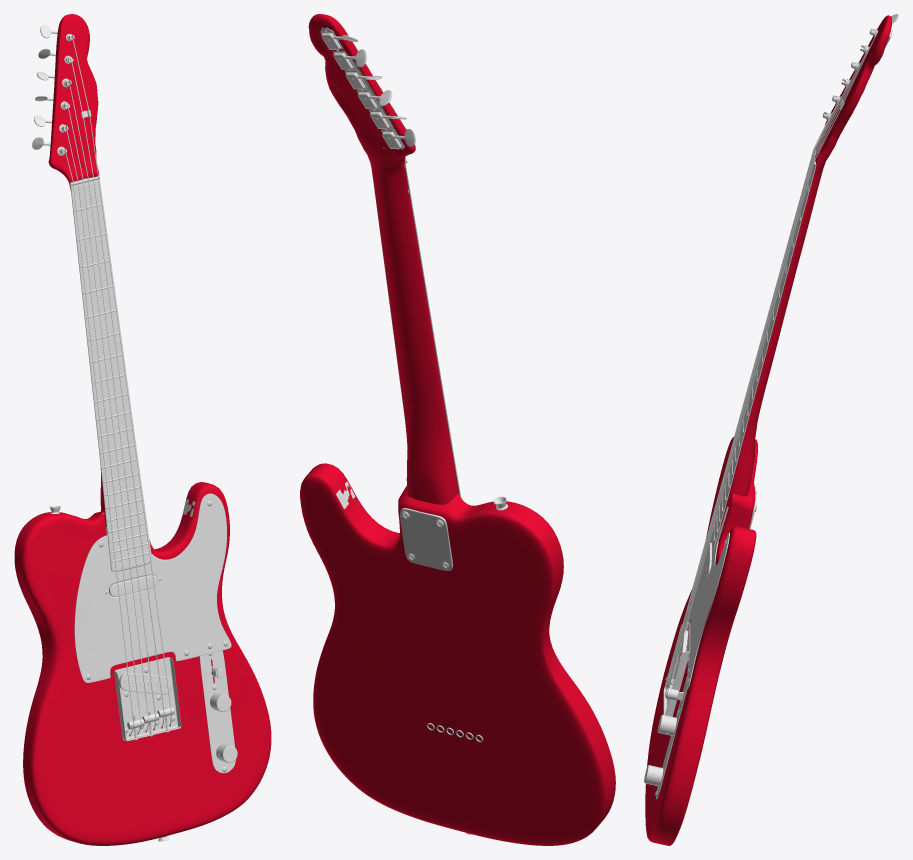
Rendered from TeleOPT2.glb.
3 views of the same model, side by side, from view 1: azimuth 30°, elevation 25°; view 2: azimuth 150°, elevation 25°; view 3: azimuth 270°, elevation 25° (orthographic). The views are drawn at different scales.
Visible parts, largest first — view 1: varnish, pickguard, fretboard, strings, tailpiece, selector_plate, Inlay, frets, mechs, pickup_bridge, knobs, pickup; view 2: varnish, mechs, neckplate, fretboard; view 3: varnish, strings, pickguard, fretboard, tailpiece, knobs.
Part boxes in pixels (<box>): varnish: <box>14,14,271,845</box>; pickguard: <box>74,493,231,682</box>; fretboard: <box>70,175,152,571</box>; strings: <box>59,34,171,735</box>; tailpiece: <box>114,657,181,741</box>; selector_plate: <box>199,650,235,773</box>; Inlay: <box>77,183,144,557</box>; frets: <box>74,203,150,562</box>; mechs: <box>32,25,91,155</box>; pickup_bridge: <box>119,672,172,694</box>; knobs: <box>210,693,237,762</box>; pickup: <box>109,575,157,596</box>; varnish: <box>300,14,615,845</box>; mechs: <box>320,26,415,149</box>; neckplate: <box>400,508,452,570</box>; fretboard: <box>372,161,461,497</box>; varnish: <box>645,15,891,845</box>; strings: <box>665,29,877,702</box>; pickguard: <box>687,532,729,688</box>; fretboard: <box>712,150,816,550</box>; tailpiece: <box>663,622,690,716</box>; knobs: <box>644,714,676,786</box>.
Bounding box in the file's own units: 0.6463 × 1.93 × 0.5494.
